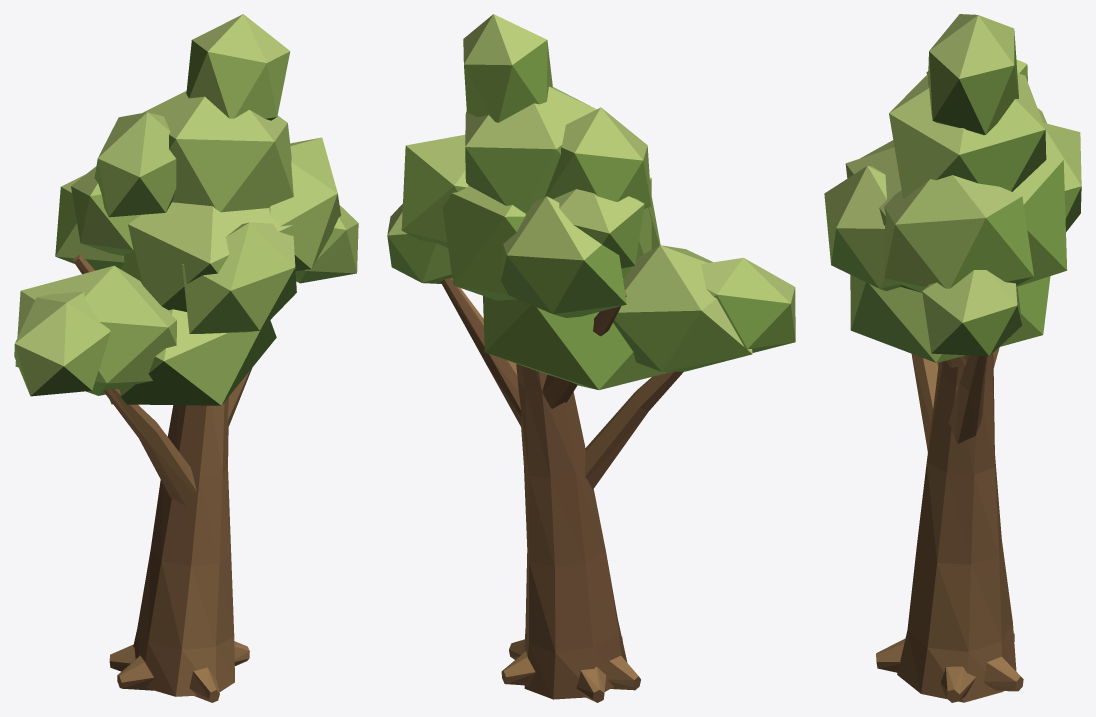
3 renders of one model, left to right at view 1: azimuth 30°, elevation 25°; view 2: azimuth 150°, elevation 25°; view 3: azimuth 270°, elevation 25°, orthographic. The views are drawn at different scales.
Parts seen in each view (by area): view 1: WK_RegularTree_SunlitLime_LOD0_High; view 2: WK_RegularTree_SunlitLime_LOD0_High; view 3: WK_RegularTree_SunlitLime_LOD0_High.
Part boxes in pixels (<box>): WK_RegularTree_SunlitLime_LOD0_High: <box>14,14,358,702</box>; WK_RegularTree_SunlitLime_LOD0_High: <box>387,14,795,702</box>; WK_RegularTree_SunlitLime_LOD0_High: <box>824,14,1081,702</box>.
Bounding box in the file's own units: 4.21 × 7.03 × 2.34.
